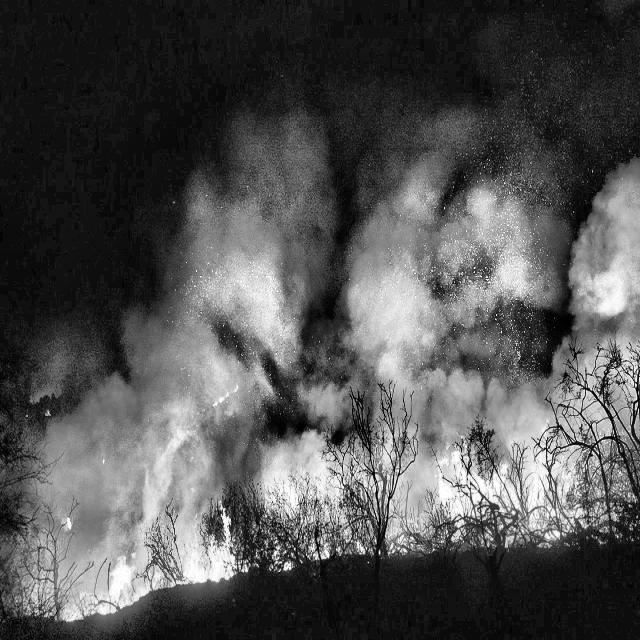fire: (97, 335, 398, 624), (35, 490, 611, 638), (352, 356, 640, 594)
